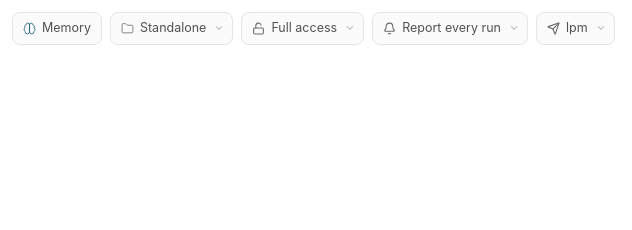
Test case: JobScopeRow › starts standalone and says where that runs
What coordinates should you click on to do the following:
click the button "Standalone"
I would click on:
 (172, 28)
Its box is [110,12,234,45].
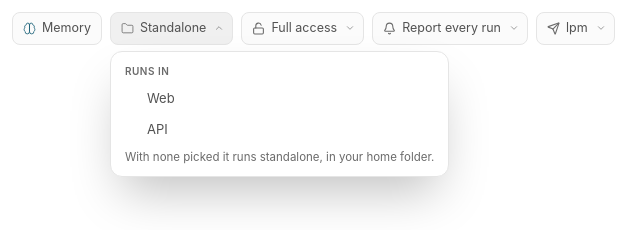
Check: the text "runs standalone, in your home folder" is shown, box [125,150,434,164]
